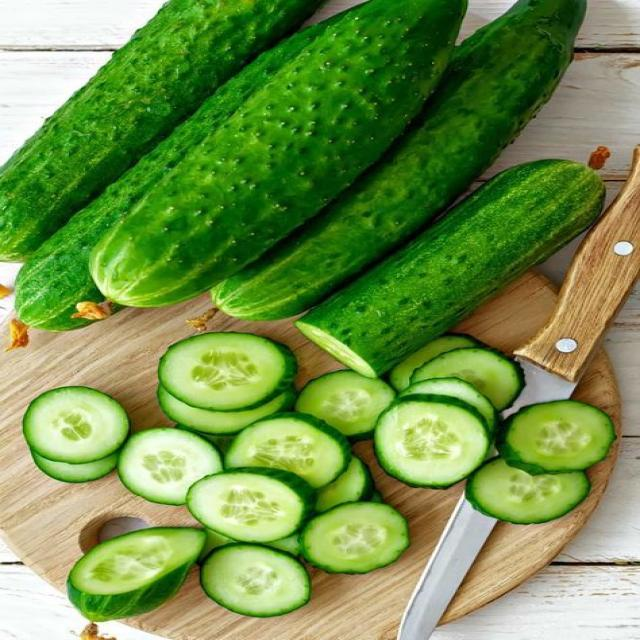cucumber sliced: (68, 528, 205, 621), (158, 333, 297, 411), (375, 395, 490, 487), (187, 468, 317, 542), (225, 413, 351, 487), (497, 400, 615, 474), (466, 458, 590, 523), (23, 387, 129, 463), (200, 544, 310, 617), (118, 428, 222, 504), (302, 503, 409, 573), (411, 348, 523, 411), (296, 370, 395, 439), (158, 386, 295, 434), (400, 379, 499, 433), (389, 334, 480, 391), (316, 456, 372, 512), (32, 451, 118, 483), (176, 424, 233, 454), (199, 529, 236, 564), (198, 529, 234, 564), (265, 533, 301, 556), (369, 490, 384, 503)
